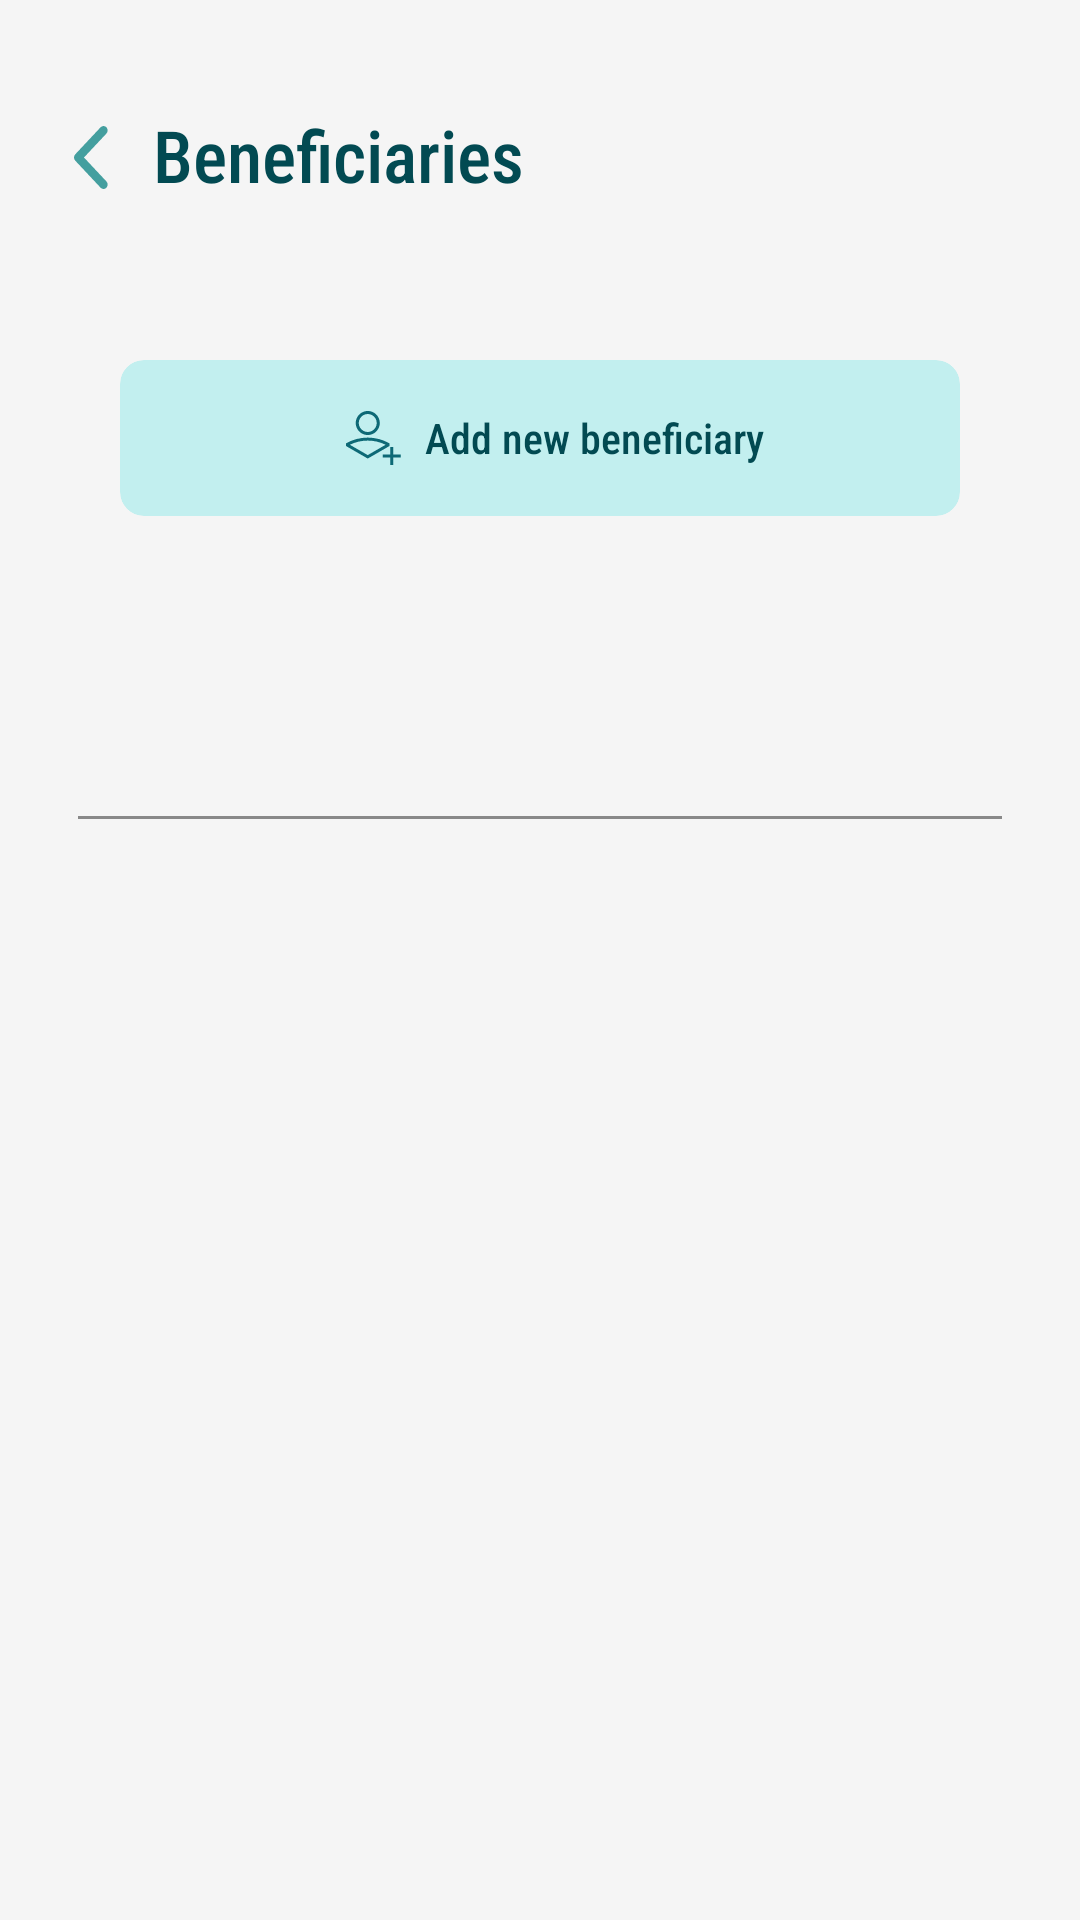

Icons on this 1080x1920 Android screen, each with the point to tap as (x=x, y=y):
add benef: (x=373, y=438)
back: (x=91, y=157)
